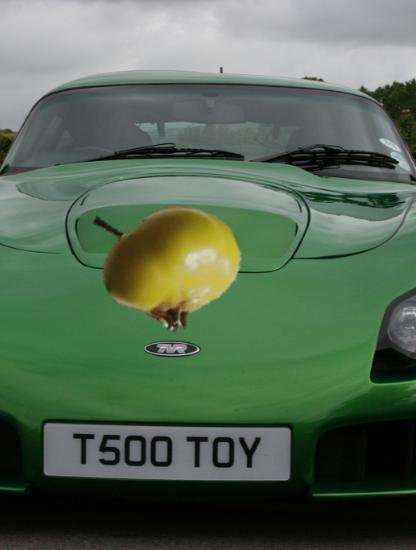Apple: (98, 190, 243, 335)
